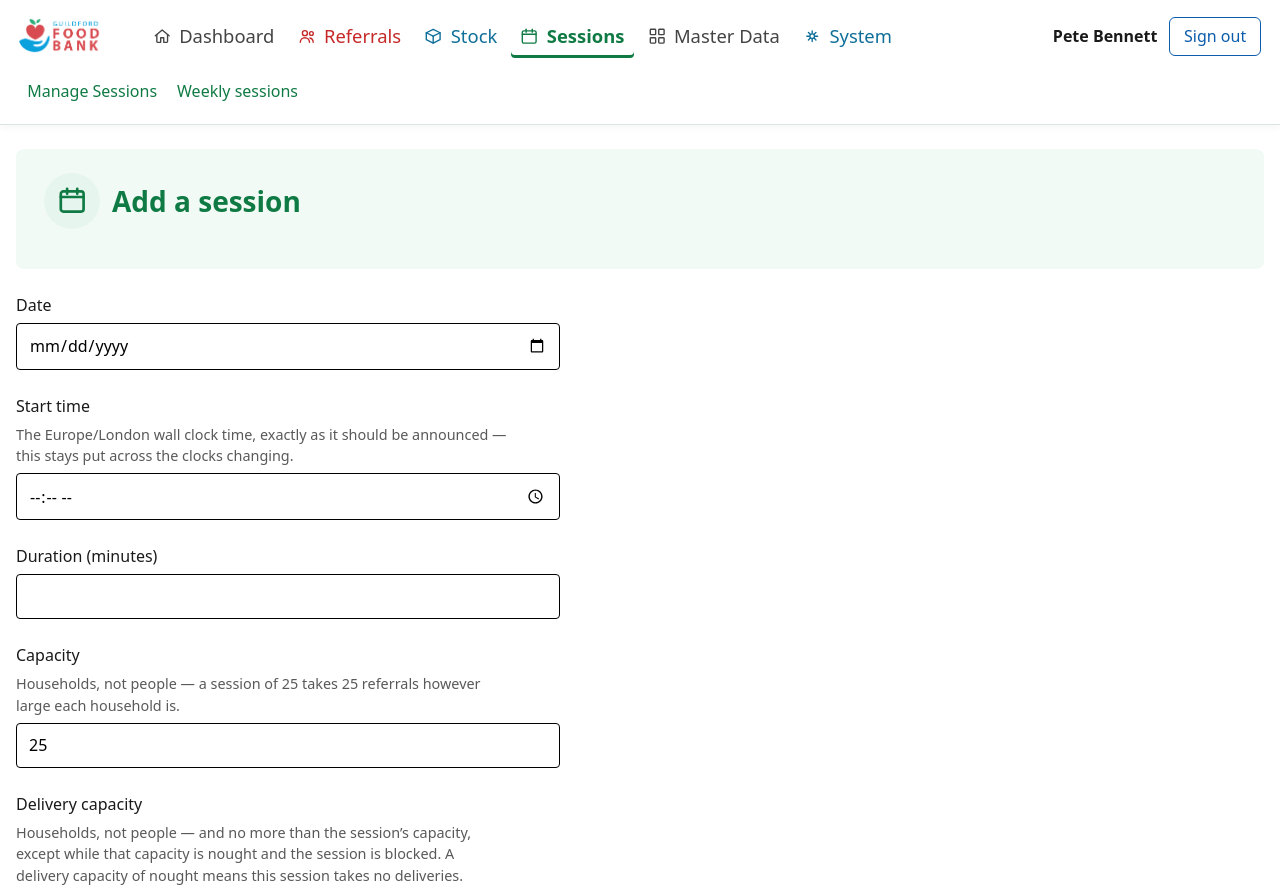
adding an ad hoc session › refuses a delivering session’s window missing its start or end, before making a request
The width and height of the screenshot is (1280, 893).
Type "2026-08-04" into the date field labelled "Date".
click(288, 346); type("2026-08-04")  # box x1=16 y1=323 x2=560 y2=370
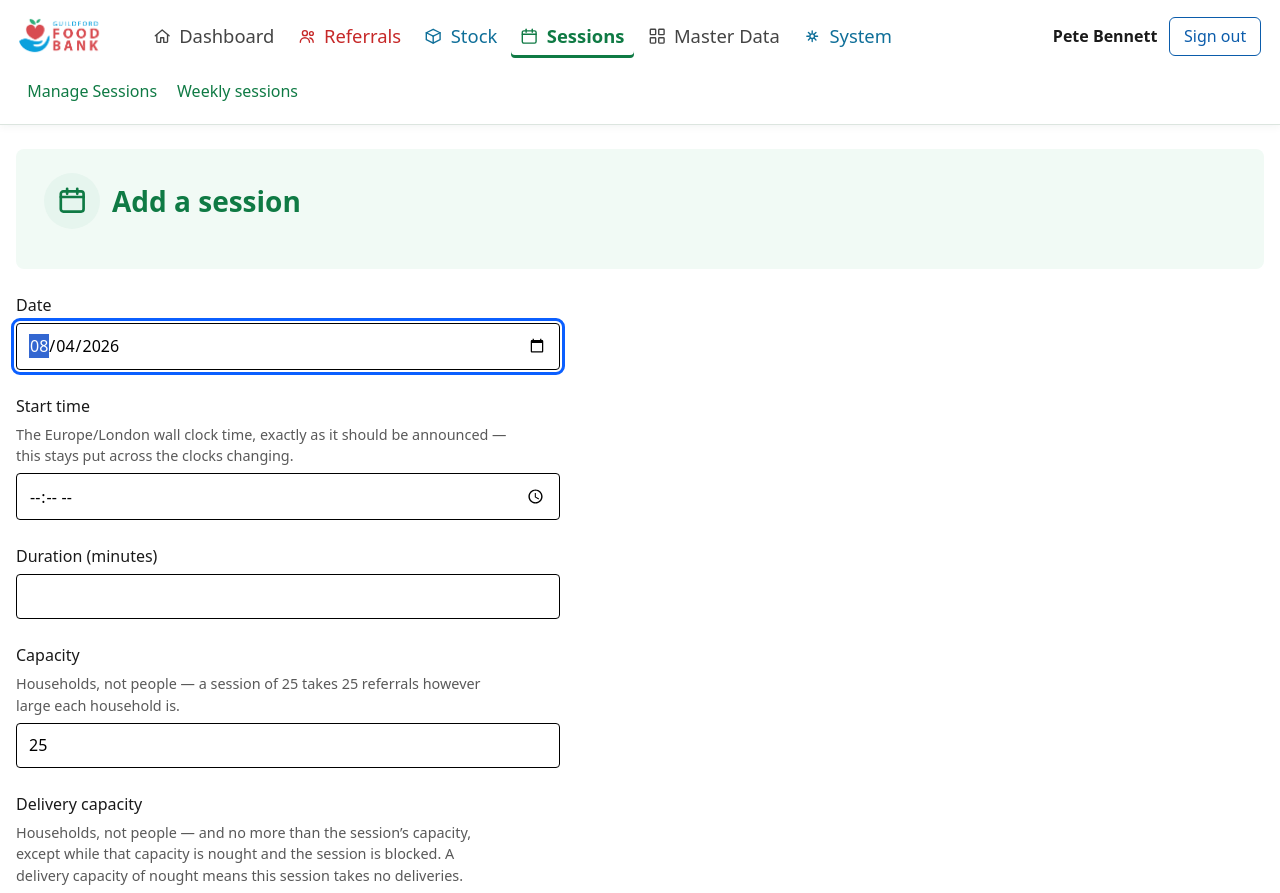
Type "10:00" into the time field labelled "Start time".
click(288, 497); type("10:00")  # box x1=16 y1=473 x2=560 y2=520
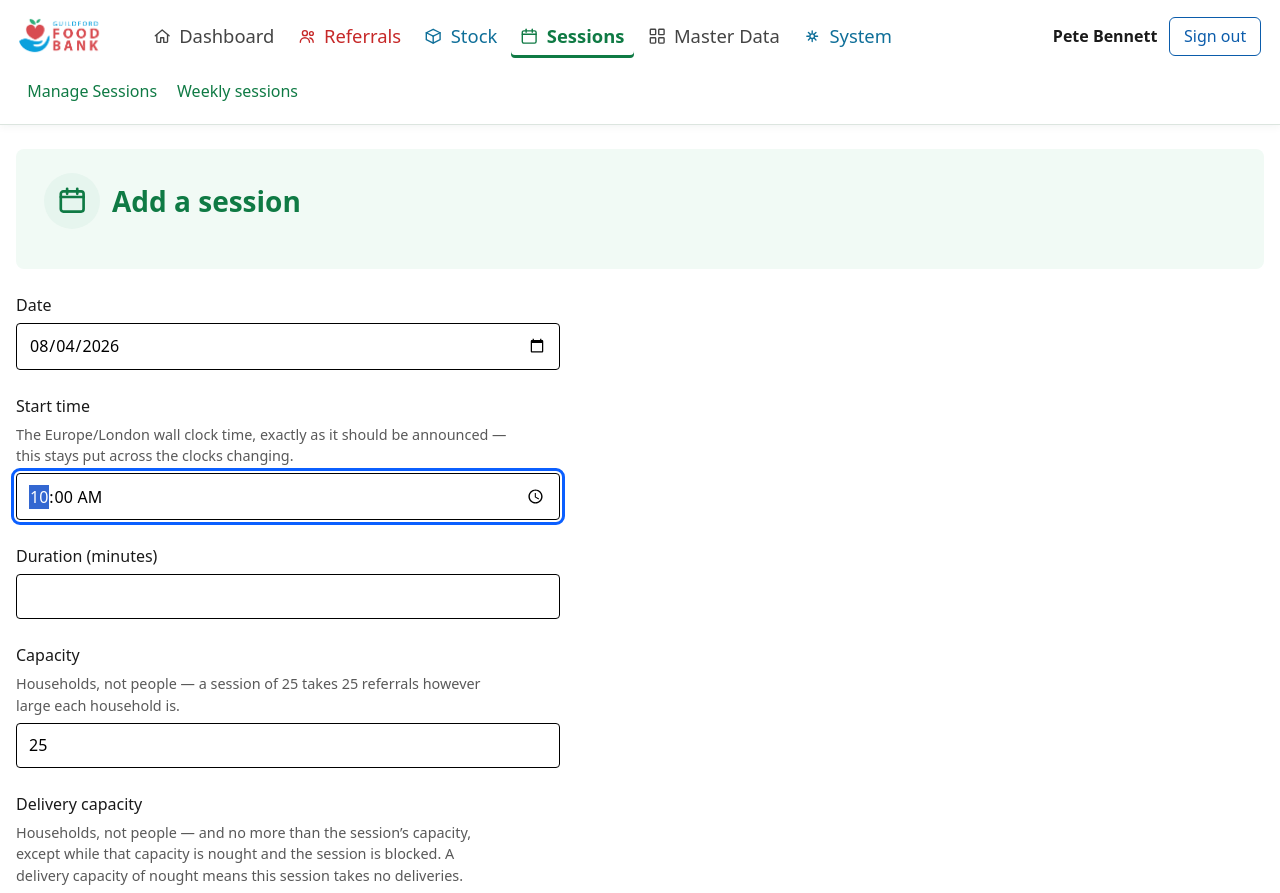
Type "90" into the field labelled "Duration (minutes)".
click(288, 597); type("90")  # box x1=16 y1=574 x2=560 y2=619
(page scrolled)
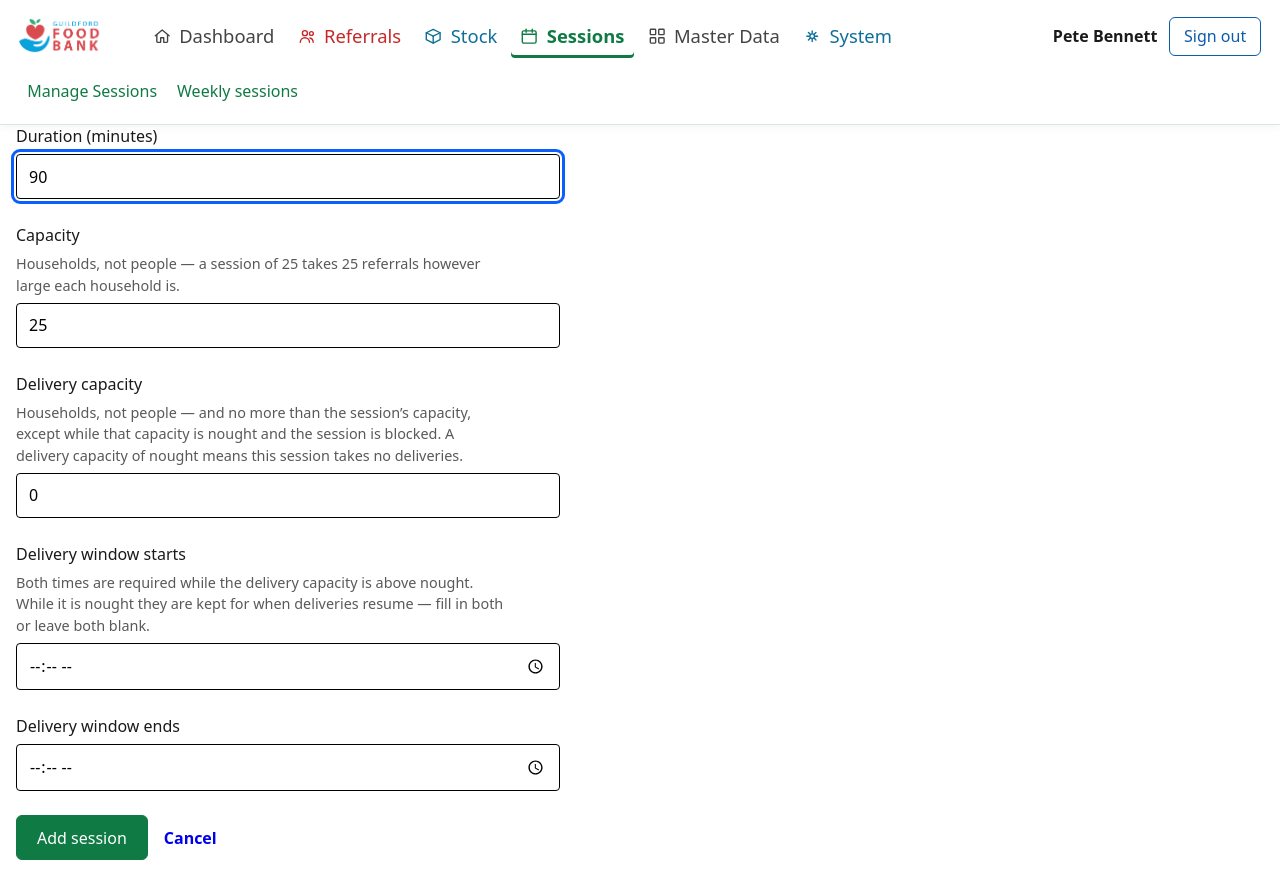
Replace the text in the field labelled "Delivery capacity" with "8" at (288, 495), box x1=16 y1=473 x2=560 y2=518
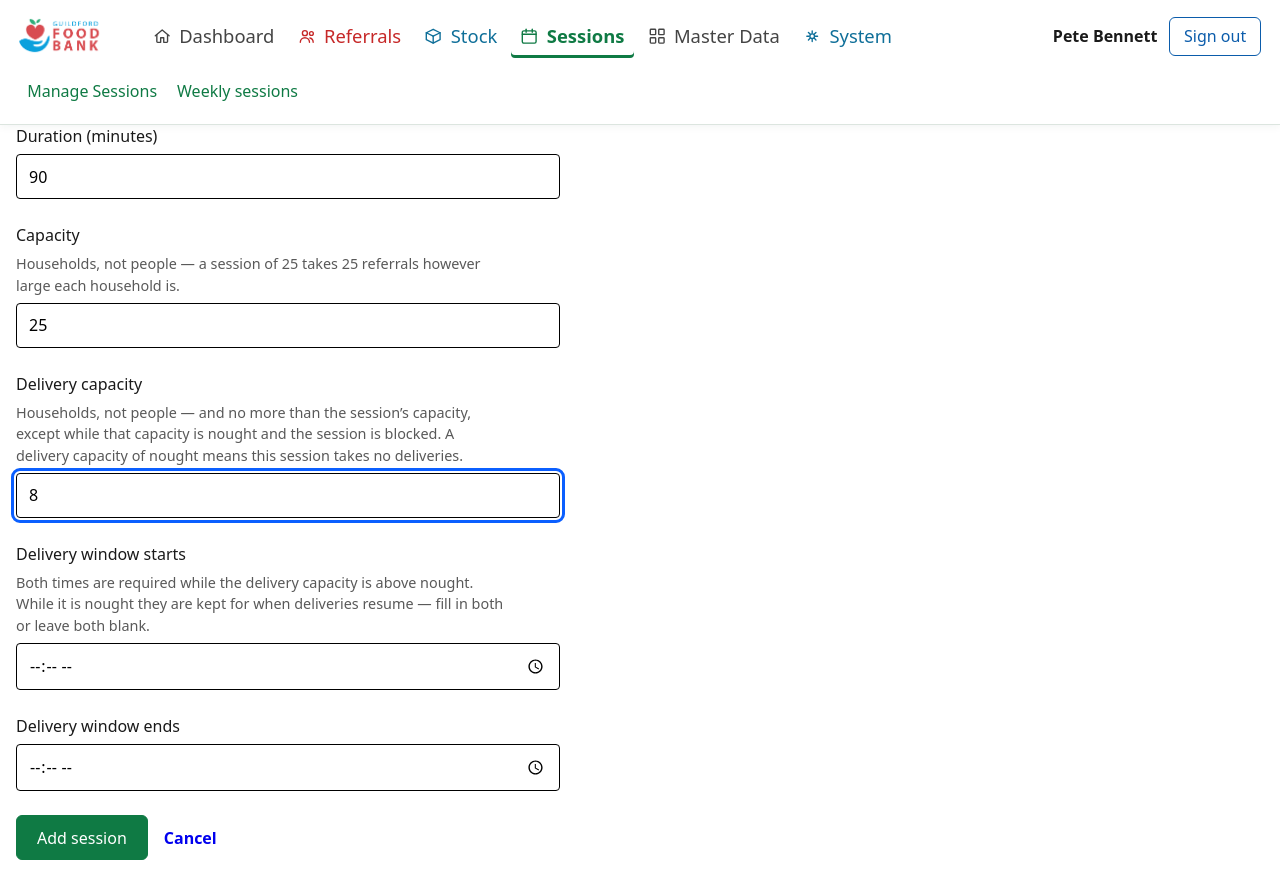
Type "09:00" into the time field labelled "Delivery window starts".
click(288, 666); type("09:00")  # box x1=16 y1=643 x2=560 y2=690
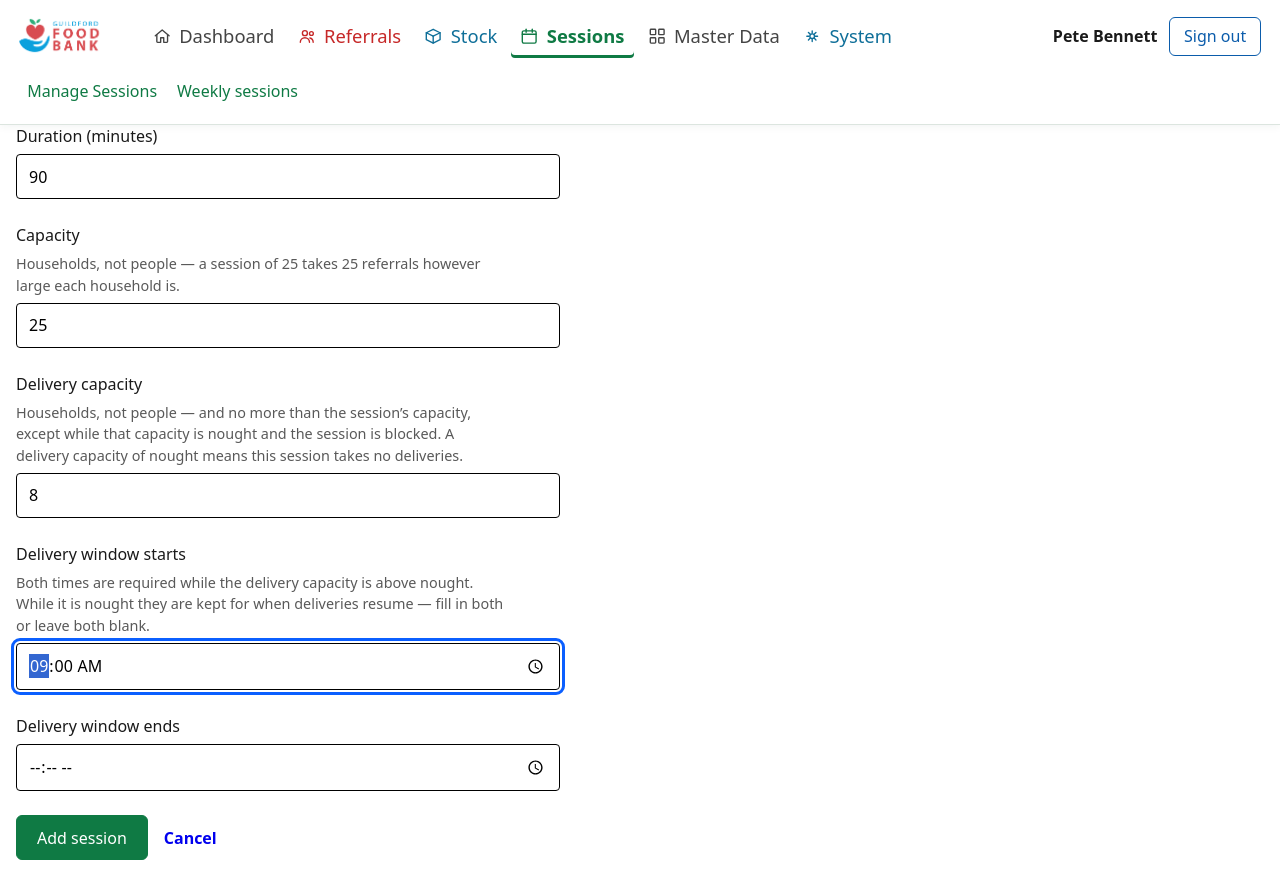
Click the button "Add session".
click(82, 838)  # box x1=16 y1=815 x2=148 y2=860
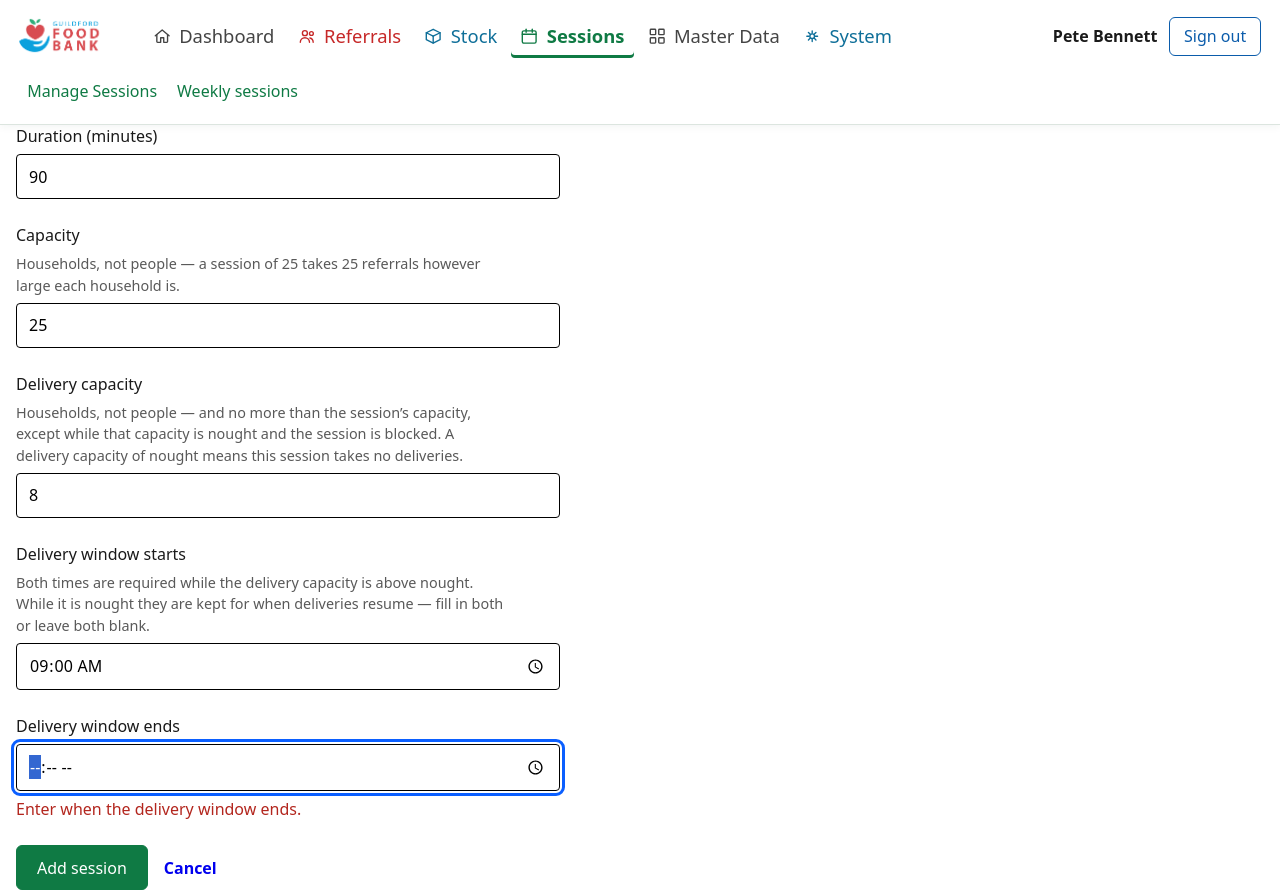
expect the text "Enter when the delivery window ends." is shown: met, box x1=16 y1=798 x2=301 y2=820
